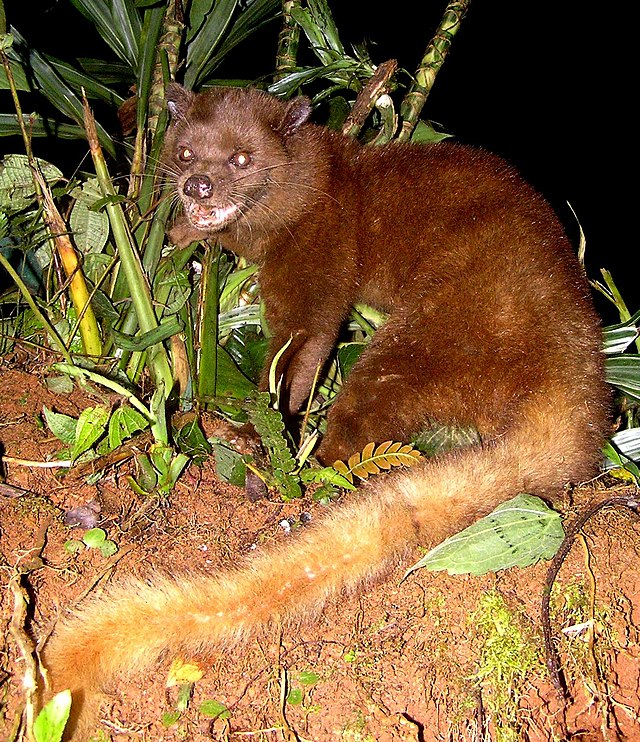Civet: (147, 59, 610, 501)
